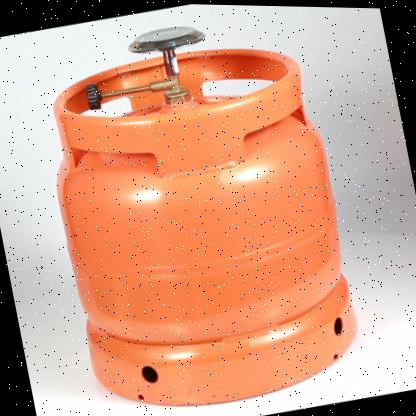gas-tank: (13, 0, 399, 415)
